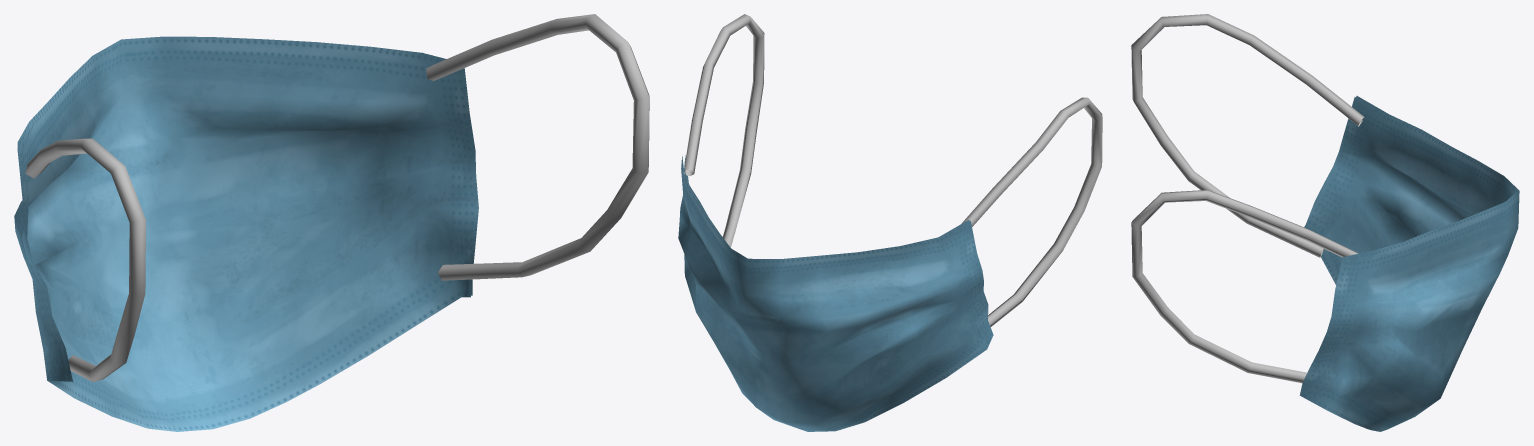
The model's file is maskcovid.fbx.
The picture shows the model from 3 angles, left to right: view 1: azimuth 30°, elevation 25°; view 2: azimuth 150°, elevation 25°; view 3: azimuth 270°, elevation 25°; orthographic projection. The views are drawn at different scales.
Visible parts, largest first — view 1: Mask_LP; view 2: Mask_LP; view 3: Mask_LP.
Boxes of the visible parts, left/top/right/bottom form: Mask_LP: left=14, top=14, right=649, bottom=431; Mask_LP: left=678, top=14, right=1102, bottom=431; Mask_LP: left=1131, top=14, right=1519, bottom=431.
Bounding box in the file's own units: 17.9 × 14.67 × 16.25.
Materials: 1 (1 with a texture image).
